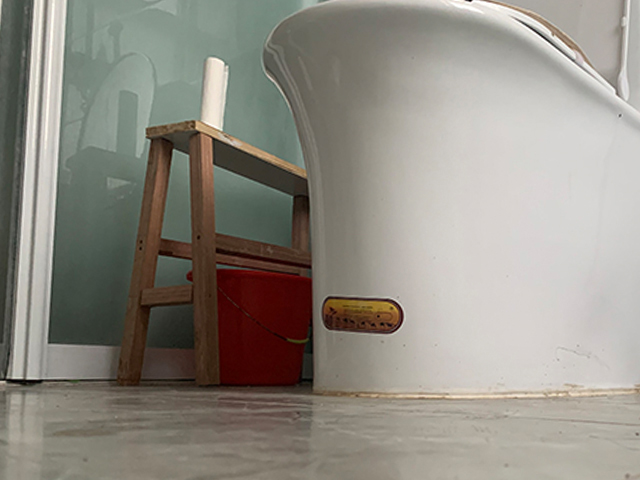closestool: (260, 1, 640, 398)
stool: (114, 120, 313, 389)
